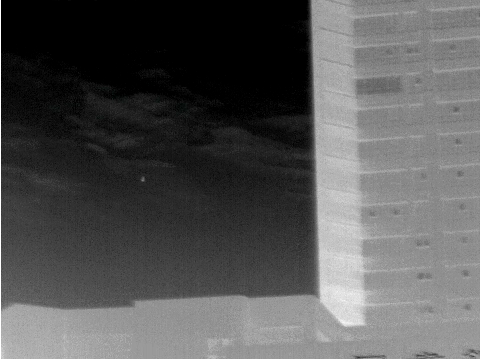dim target: (133, 169, 153, 187)
